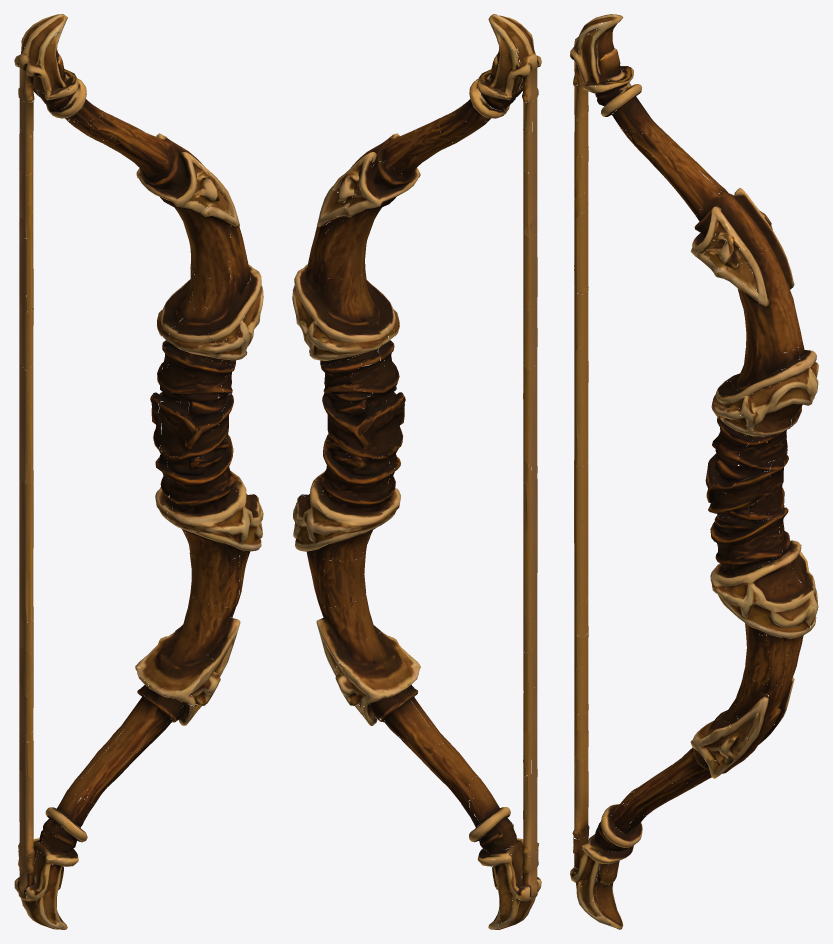
The model's file is arco.glb.
3 views of the same model, side by side, from view 1: azimuth 30°, elevation 25°; view 2: azimuth 150°, elevation 25°; view 3: azimuth 330°, elevation 25° (orthographic).
Parts seen in each view (by area): view 1: arco_rest; view 2: arco_rest; view 3: arco_rest.
Part boxes in pixels (x1,y1,x2,y2): arco_rest: [14, 14, 263, 929]; arco_rest: [292, 14, 541, 929]; arco_rest: [570, 14, 818, 929].
Bounding box in the file's own units: 0.1725 × 0.6202 × 0.0739.
1 material, 1 textured.
